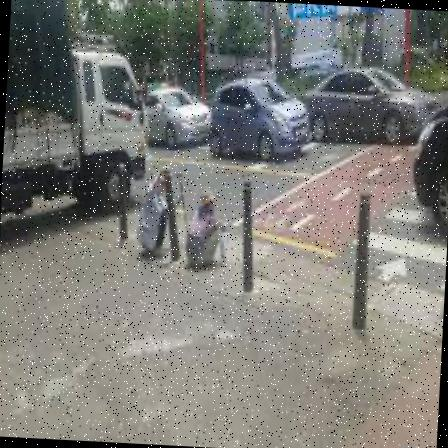silver: (132, 164, 194, 262), (182, 188, 230, 272)
